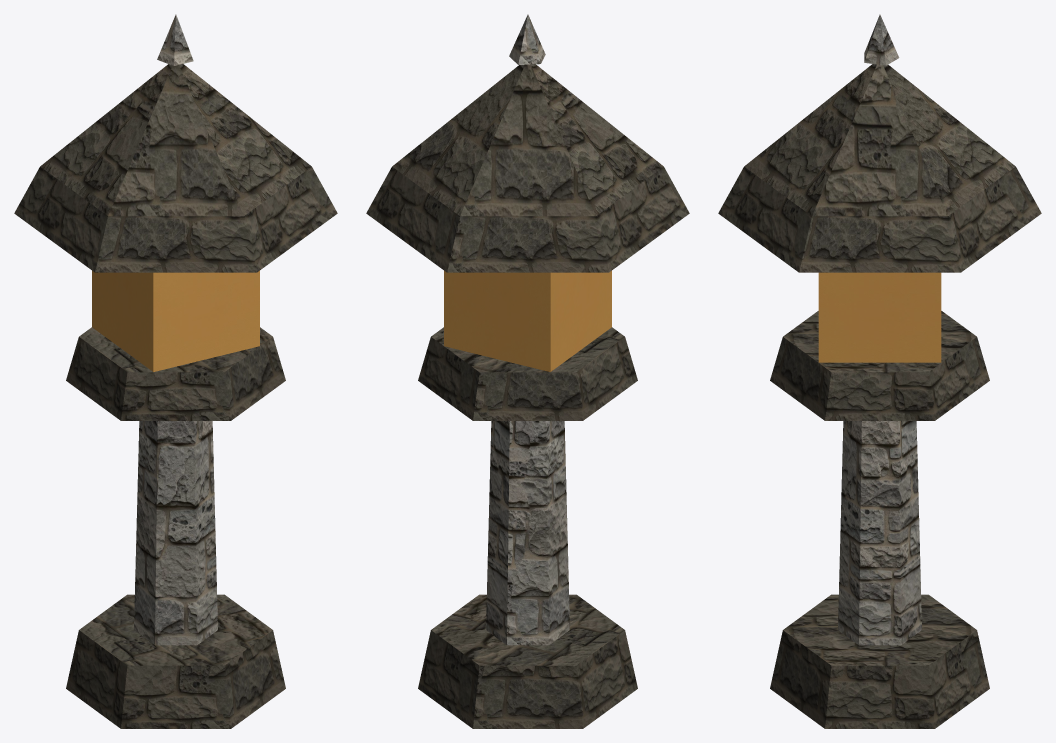
Rendered from stone_lantern_01.glb.
3 views of the same model, side by side, from view 1: azimuth 30°, elevation 25°; view 2: azimuth 150°, elevation 25°; view 3: azimuth 270°, elevation 25° (orthographic).
Visible parts, largest first — view 1: stone_lantern_01; view 2: stone_lantern_01; view 3: stone_lantern_01.
Part boxes in pixels (x1,y1,x2,y2): stone_lantern_01: (14,14,337,728); stone_lantern_01: (366,14,689,728); stone_lantern_01: (718,14,1041,728).
Bounding box in the file's own units: 0.866 × 2.3 × 1.
3 materials, 3 textured.
